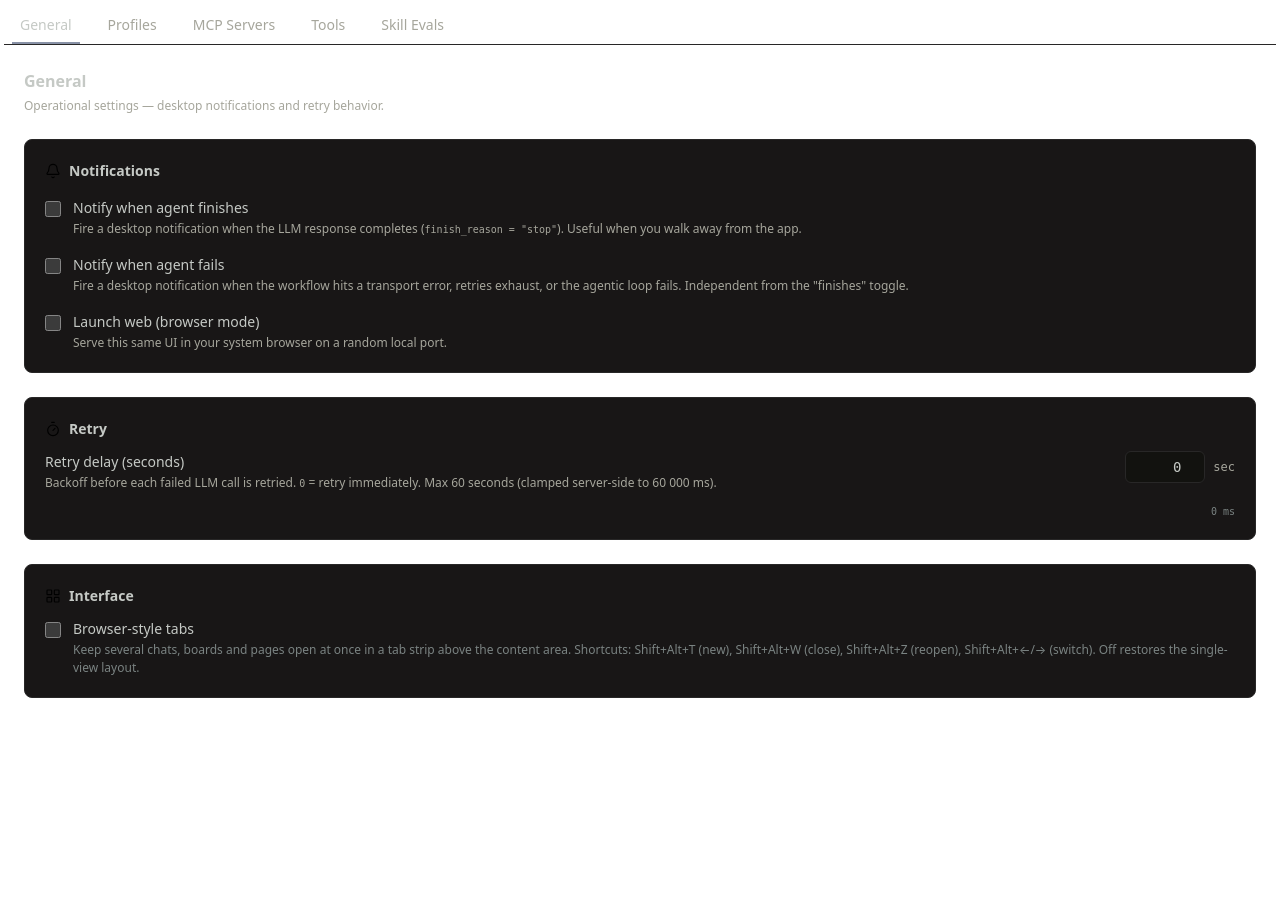
PabrikSettings (orchestrator) › hydrates an explicit tools list from config (no defaults note, checkboxes reflect it)
The width and height of the screenshot is (1280, 900).
Click the tab "Tools". click: (328, 24)
box: [295,4,361,44]
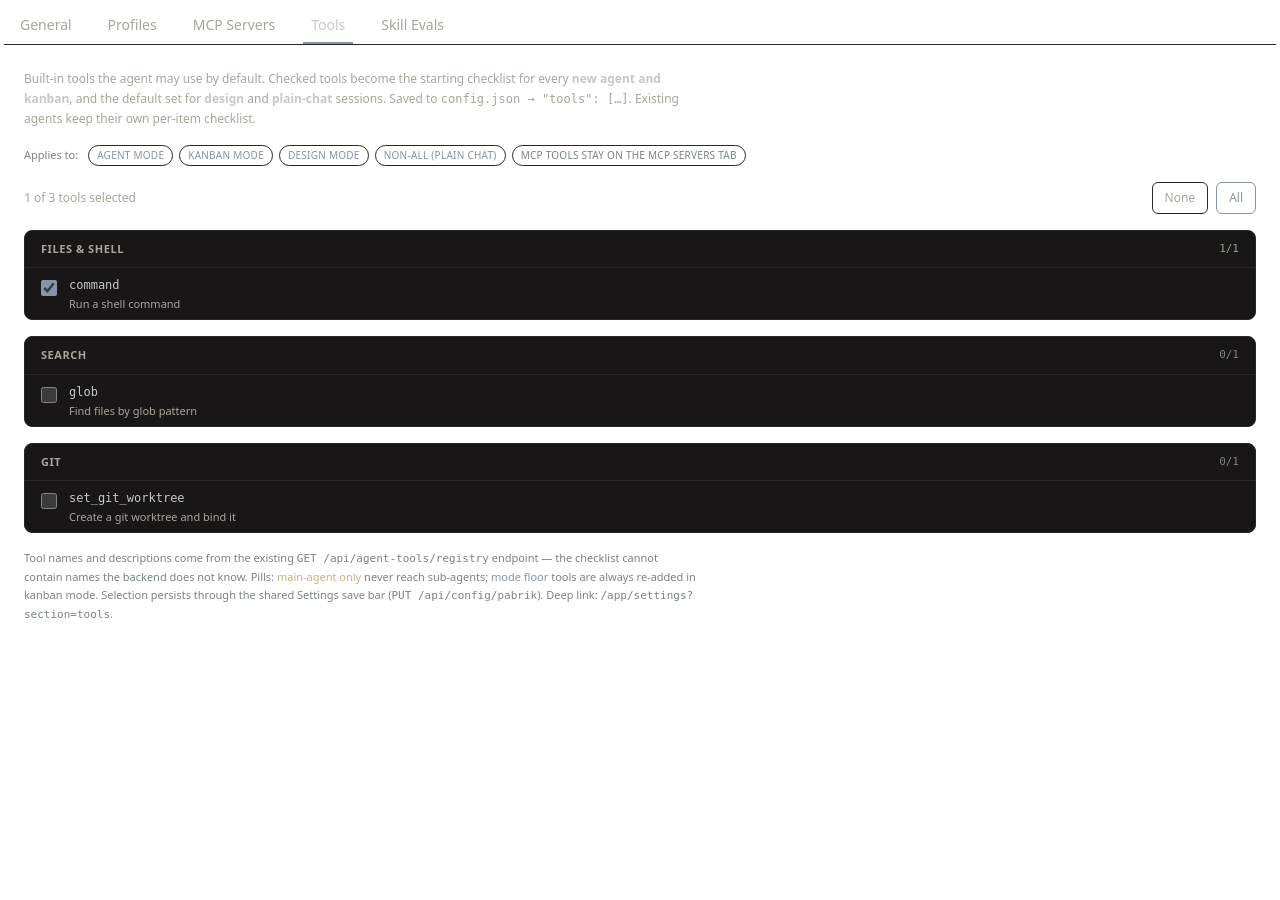
Expected: the element with test id "tools-section" shows "1 of 3 tools selected", [24,69,1256,624]
